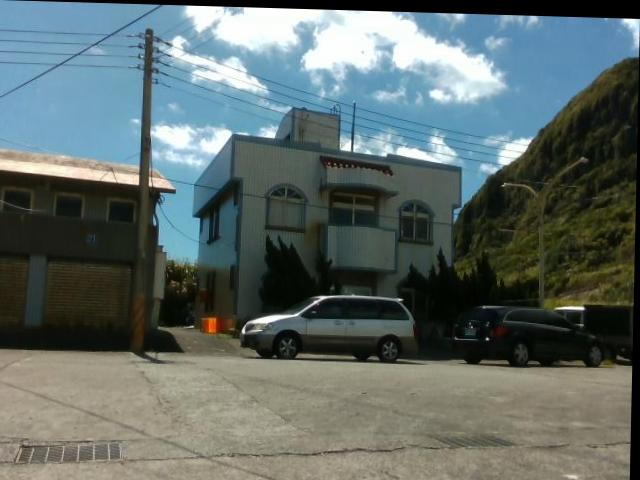pollute: (199, 316, 226, 334)
